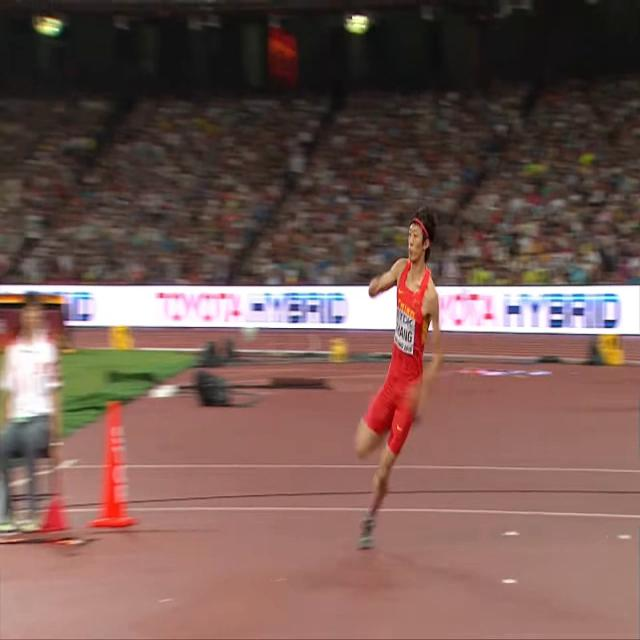run: (352, 204, 443, 550)
